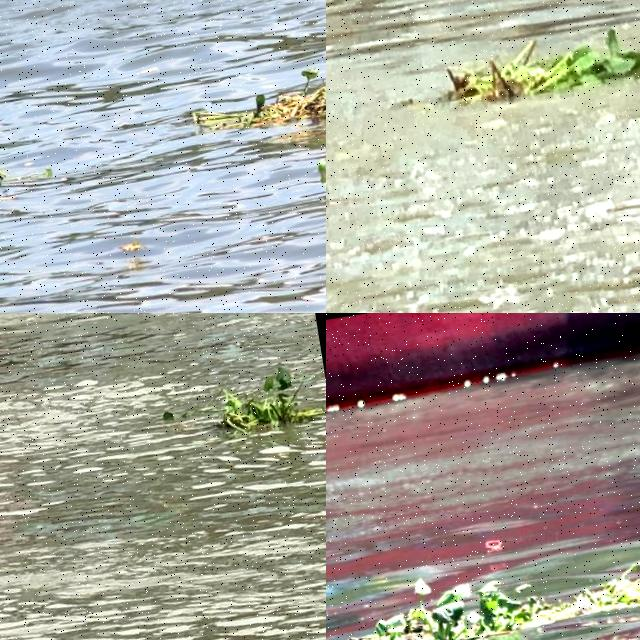water-hyacinth: (327, 553, 640, 640), (436, 13, 640, 122), (171, 60, 327, 149), (202, 355, 328, 446), (1, 111, 62, 194)
